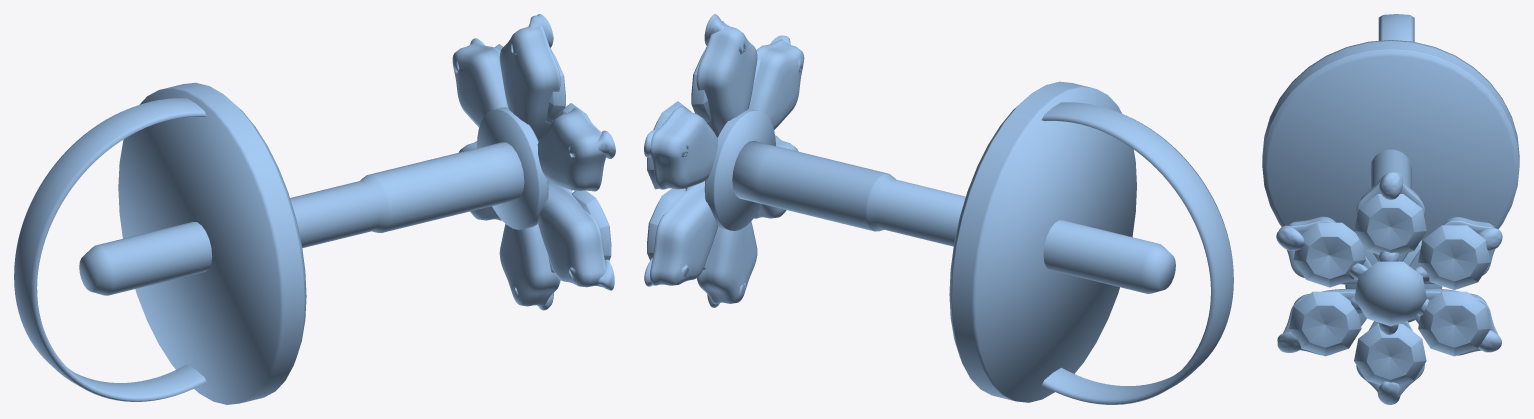
The model's file is Earing_01_updated.glb.
The picture shows the model from 3 angles, left to right: view 1: azimuth 30°, elevation 25°; view 2: azimuth 150°, elevation 25°; view 3: azimuth 270°, elevation 25°; orthographic projection. The views are drawn at different scales.
Parts seen in each view (by area): view 1: holder, connector, Backplate, Diamonds, Diamond_connectors; view 2: holder, connector, Backplate, Diamonds, Diamond_connectors; view 3: holder, Diamonds, Diamond_connectors, Backplate, connector.
Boxes of the visible parts, x1,y1,x2,y2 form: holder: (14, 82, 306, 404); connector: (79, 107, 548, 295); Backplate: (452, 26, 606, 306); Diamonds: (495, 44, 611, 272); Diamond_connectors: (470, 14, 615, 310); holder: (949, 81, 1233, 404); connector: (704, 109, 1175, 293); Backplate: (650, 21, 804, 304); Diamonds: (647, 45, 762, 269); Diamond_connectors: (644, 14, 790, 307); holder: (1262, 14, 1519, 240); Diamonds: (1289, 194, 1490, 385); Diamond_connectors: (1276, 171, 1502, 404); Backplate: (1283, 173, 1498, 394); connector: (1345, 149, 1442, 322).
Bounding box in the file's own units: 69.43 × 36.37 × 36.25.
